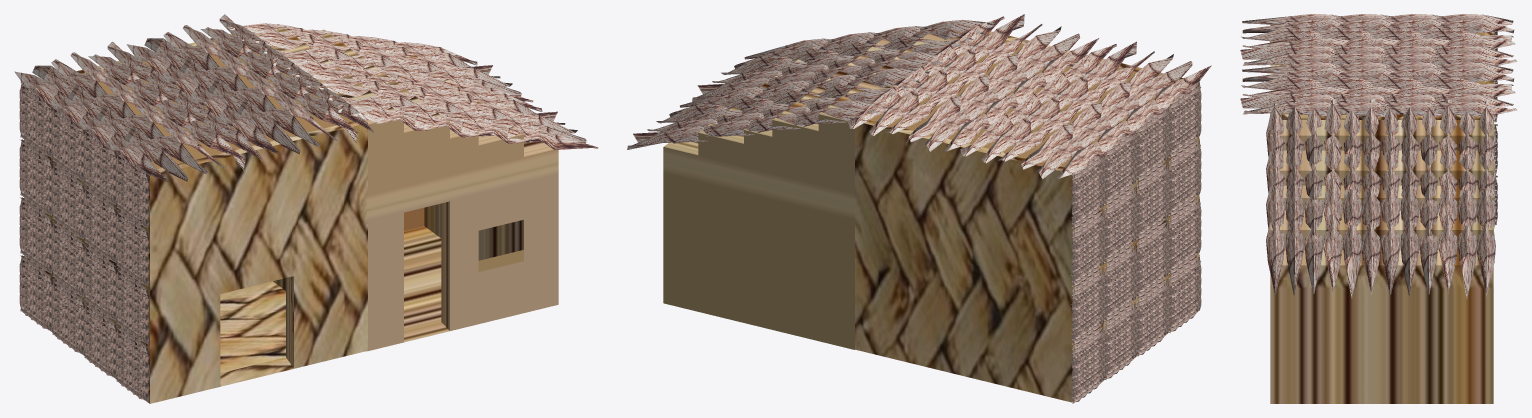
File: vnhouse1.fbx
3 views of the same model, side by side, from view 1: azimuth 30°, elevation 25°; view 2: azimuth 150°, elevation 25°; view 3: azimuth 270°, elevation 25° (orthographic). The views are drawn at different scales.
Visible parts, largest first — view 1: Cube; view 2: Cube; view 3: Cube.
Boxes of the visible parts, x1=… form: Cube: x1=14, y1=14, x2=598, y2=403; Cube: x1=627, y1=14, x2=1211, y2=403; Cube: x1=1240, y1=14, x2=1517, y2=403.
Bounding box in the file's own units: 422 × 215 × 248.
